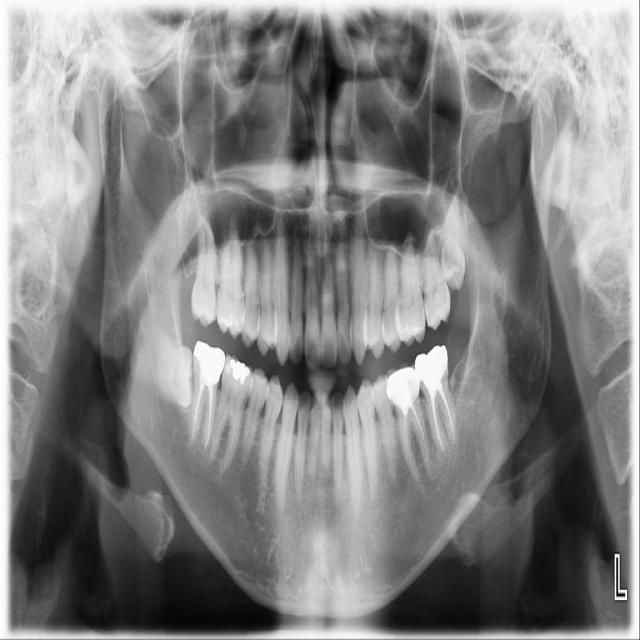52: (376, 357, 431, 412), (406, 341, 461, 395), (210, 352, 264, 404), (185, 340, 229, 386), (394, 289, 427, 349), (212, 287, 248, 340)
73: (391, 396, 435, 484), (421, 379, 464, 461), (186, 379, 218, 455), (610, 559, 616, 567)
BioHorizons Implant: (420, 220, 452, 332)
BioLife Implant: (435, 194, 467, 292)
Blue Sky Bio Implant: (412, 343, 461, 462)
Caries: (190, 206, 220, 328)
Implant: (177, 340, 228, 455)
Keystone Dental Implant: (152, 328, 196, 410)
